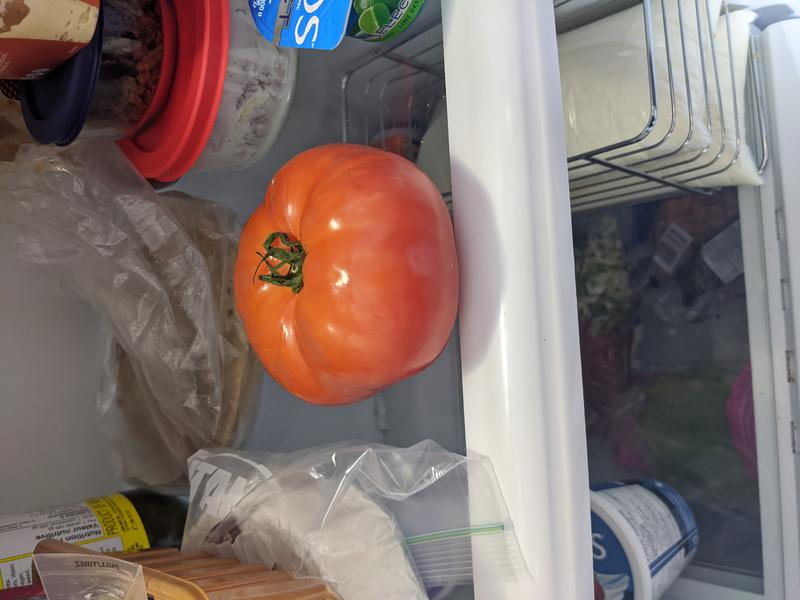tomato: (234, 142, 461, 406)
